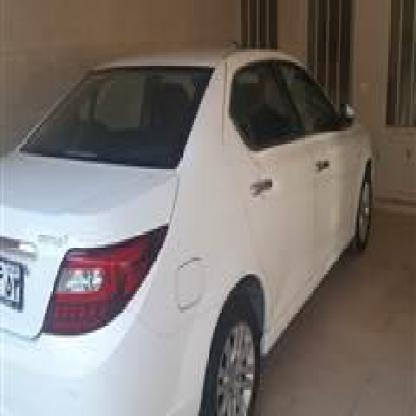car: (0, 49, 392, 414)
